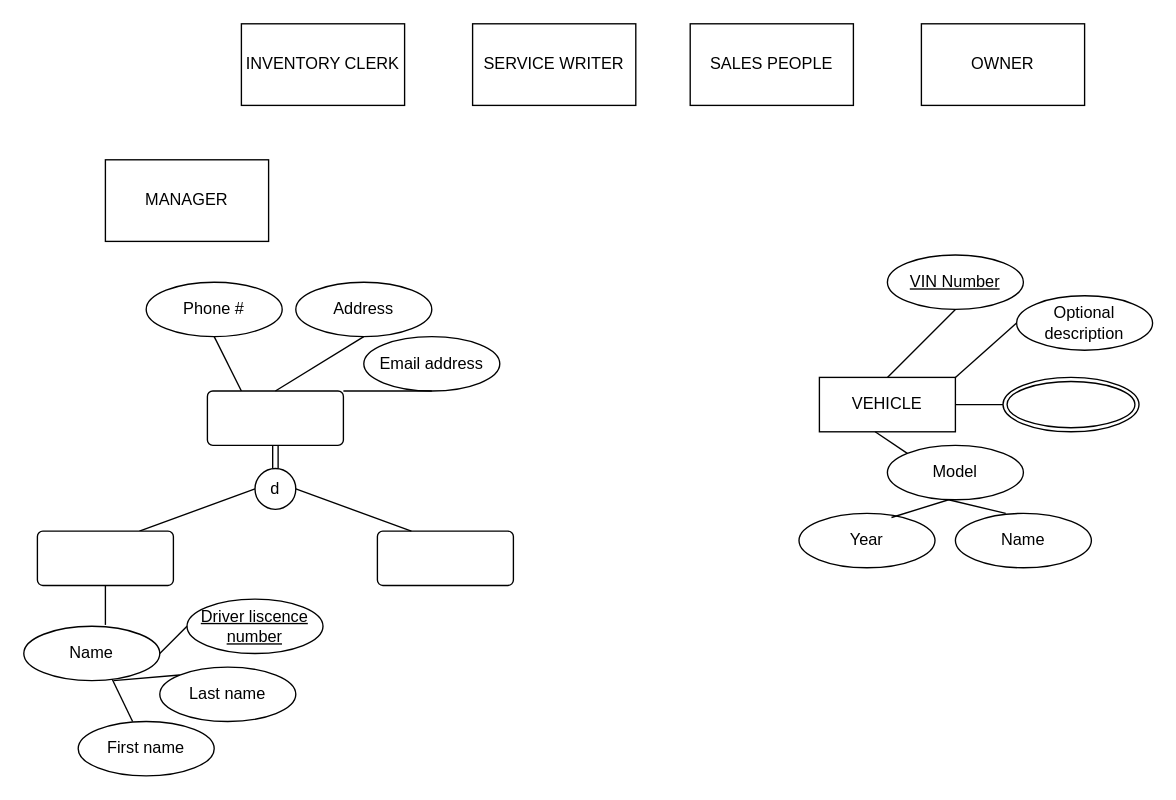
Image size: 1176x800. Some labels were removed from this diagram. The box of each missing label's shape, as (x1, y1, x2, y2) in pixels:
BUSINESS: (376, 530, 513, 585)
Color: (1002, 376, 1139, 432)
CUSTOMER: (206, 390, 343, 445)
INDIVIDUAL: (36, 530, 173, 585)
